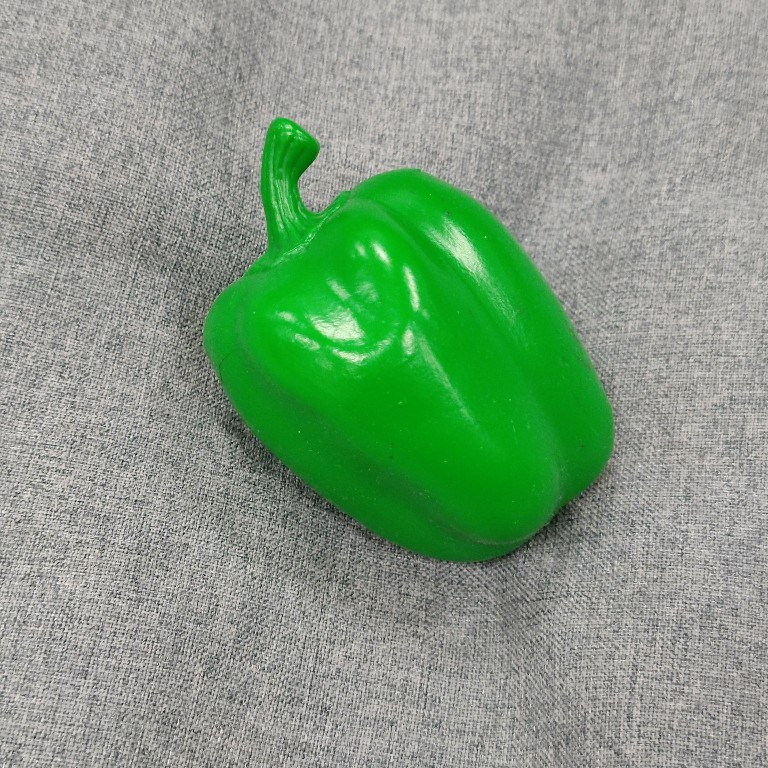fruit_pepper: (198, 113, 617, 567)
